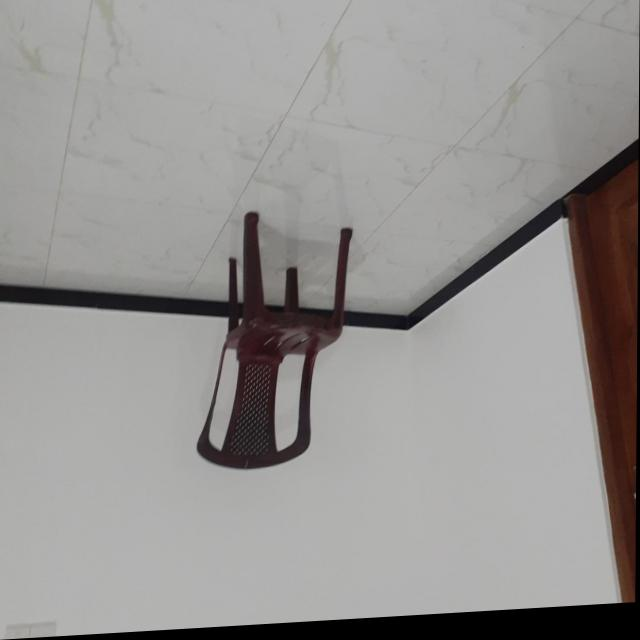Chair: (198, 207, 353, 476)
